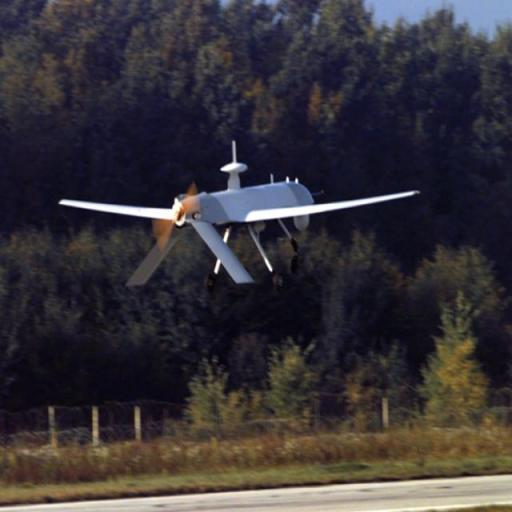uav: (46, 127, 430, 290)
